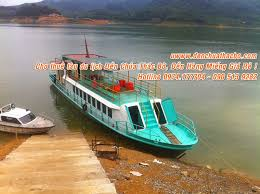tau_dansu: (47, 52, 201, 149)
